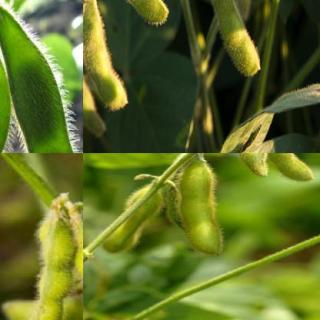soya: (0, 14, 82, 152), (7, 219, 75, 319), (83, 0, 128, 112), (207, 0, 261, 77), (180, 163, 224, 255), (102, 188, 163, 252), (83, 48, 107, 140), (104, 0, 170, 27), (262, 153, 318, 182), (0, 302, 82, 319), (238, 153, 272, 177)
